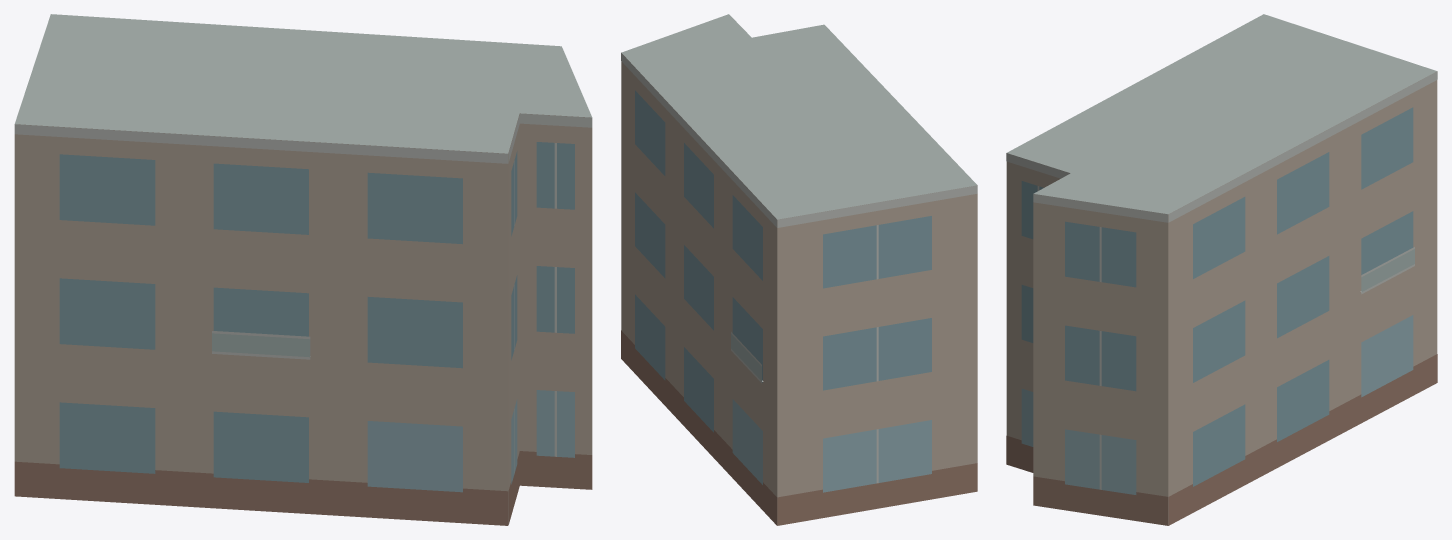
The model's file is survey-upis-32626394.glb.
3 views of the same model, side by side, from view 1: azimuth 30°, elevation 25°; view 2: azimuth 150°, elevation 25°; view 3: azimuth 270°, elevation 25° (orthographic). The views are drawn at different scales.
Parts seen in each view (by area): view 1: survey-upis-32626394.tmp; view 2: survey-upis-32626394.tmp; view 3: survey-upis-32626394.tmp.
Boxes of the visible parts, x1,y1,x2,y2 form: survey-upis-32626394.tmp: (14,14,592,525); survey-upis-32626394.tmp: (621,14,977,525); survey-upis-32626394.tmp: (1006,14,1437,525).
Size of the model in its own units: 12.28 by 8.9 by 11.17.
